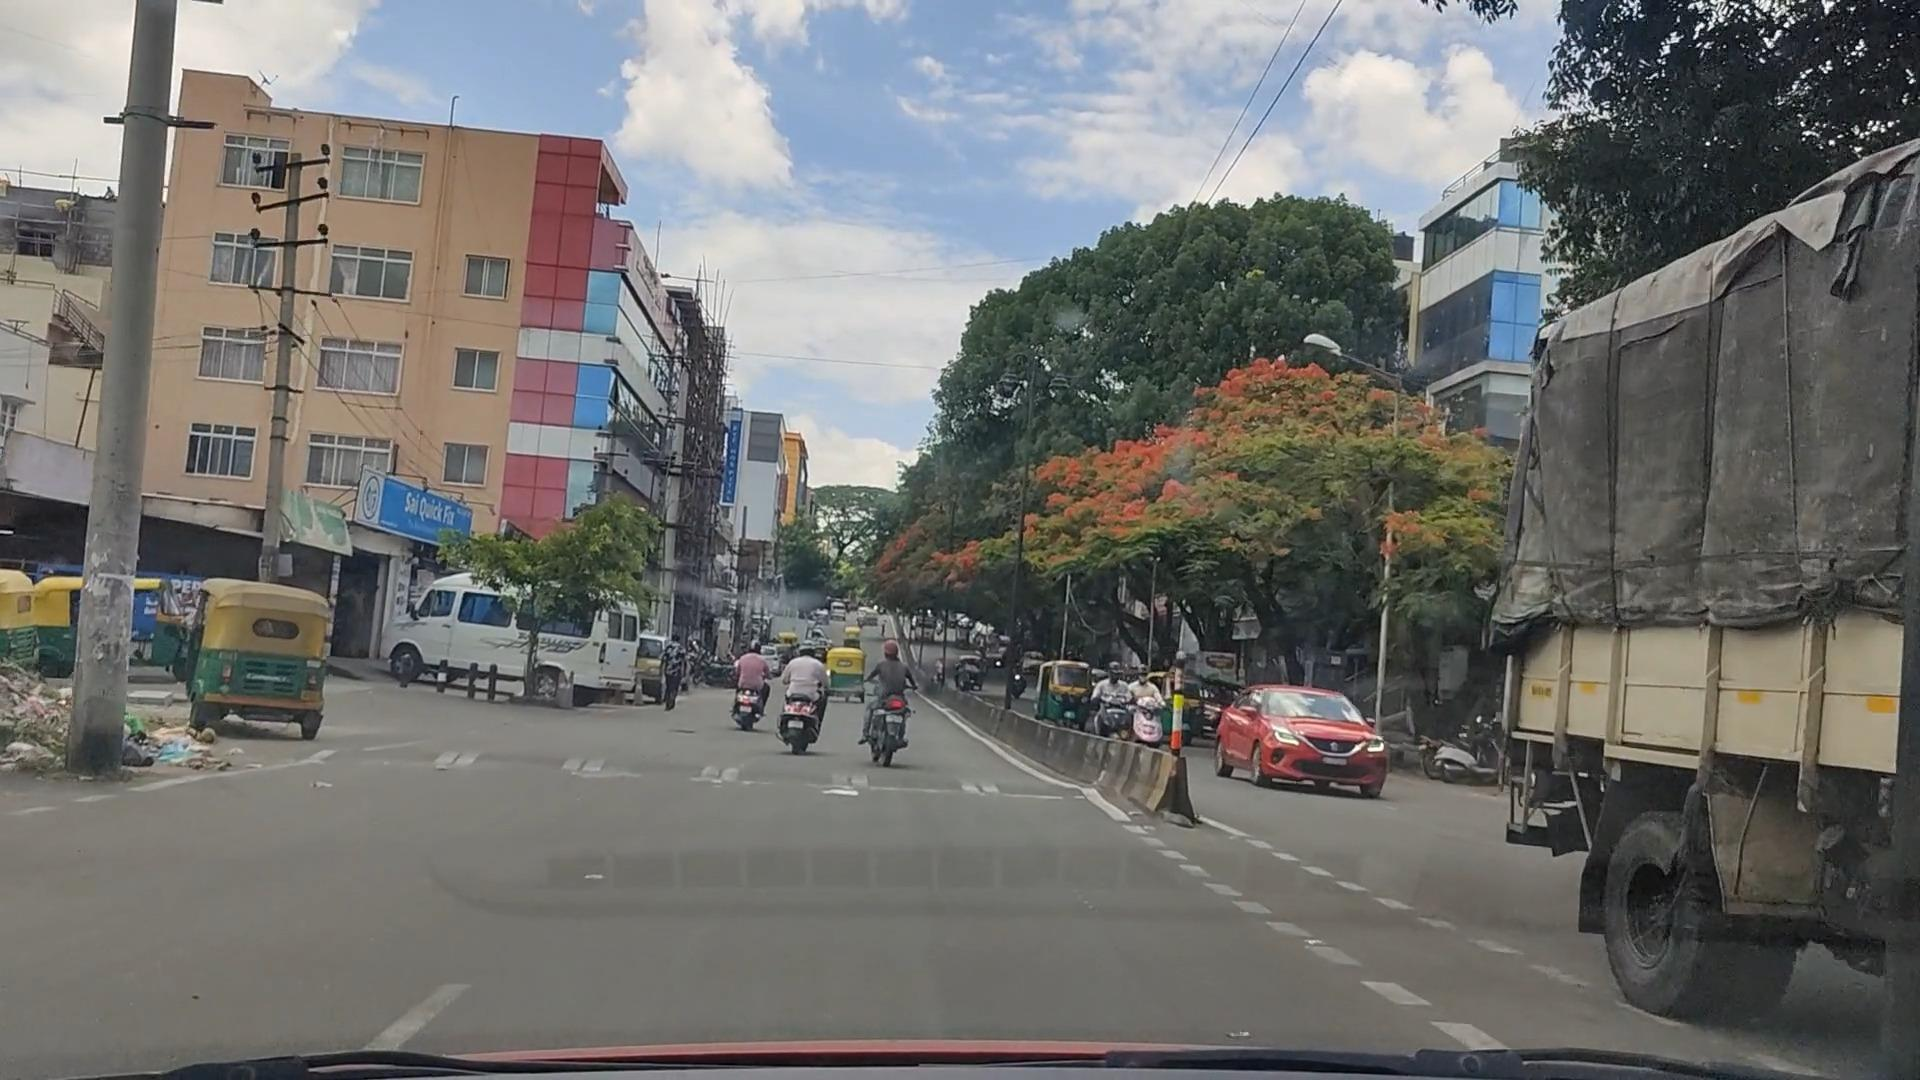LMV: (181, 578, 330, 738), (781, 628, 833, 753), (865, 646, 918, 762)
SpeedBump: (315, 754, 1092, 793)
